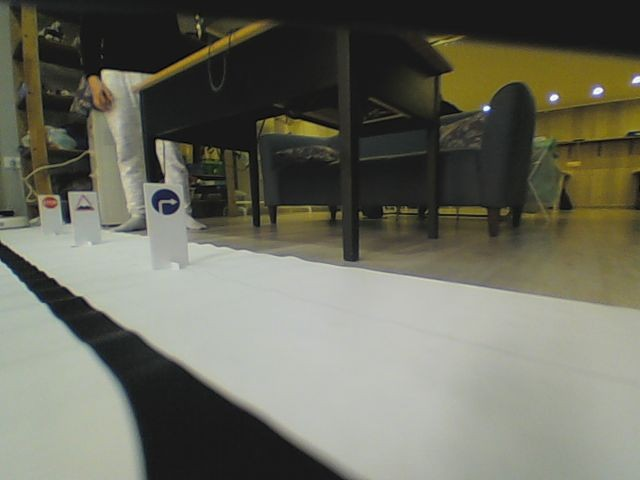Nerov: (74, 193, 95, 211)
Right: (151, 188, 181, 215)
